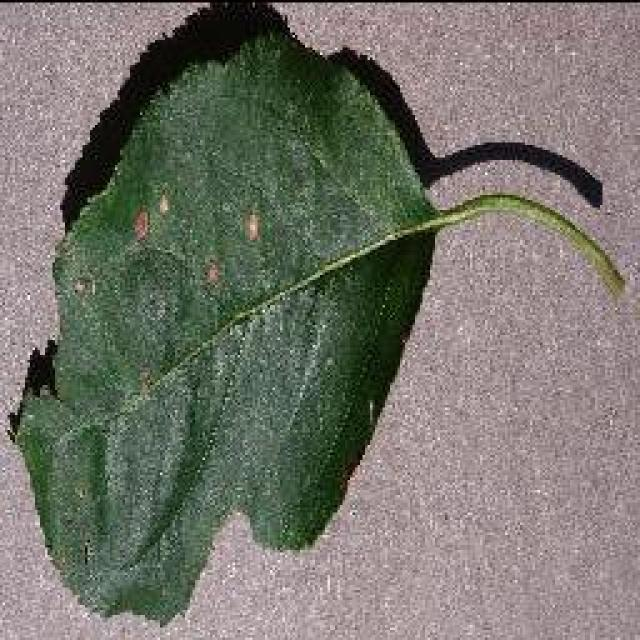apple black rot: (5, 0, 633, 625)
